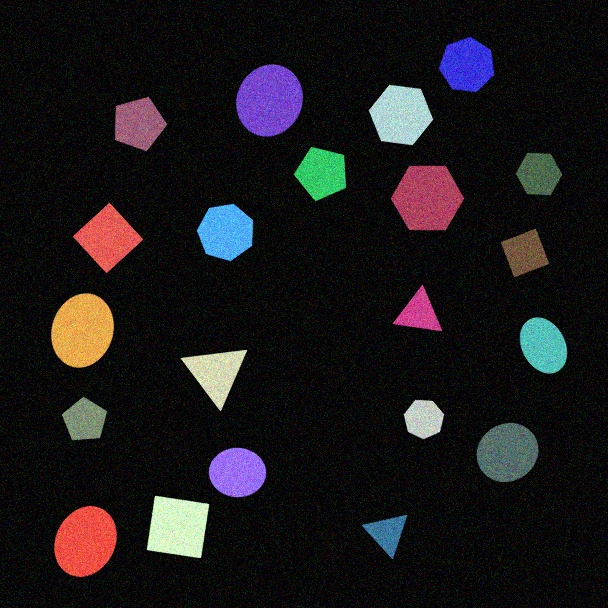Circulo: (235, 64, 304, 137), (476, 422, 539, 483), (208, 447, 267, 498)
Elipse: (50, 293, 115, 368), (53, 505, 118, 578), (519, 317, 568, 374)
Heptagono: (196, 203, 254, 262), (438, 36, 495, 93), (403, 399, 445, 440)
Hexagono: (390, 165, 465, 231), (368, 84, 434, 146), (515, 152, 563, 196)
Pentagono: (293, 146, 347, 202), (114, 96, 168, 152), (61, 396, 108, 441)
Quadrado: (72, 202, 144, 274), (146, 495, 210, 559), (500, 228, 550, 278)
Triangulo: (180, 349, 248, 412), (392, 285, 443, 332), (361, 514, 408, 560)
